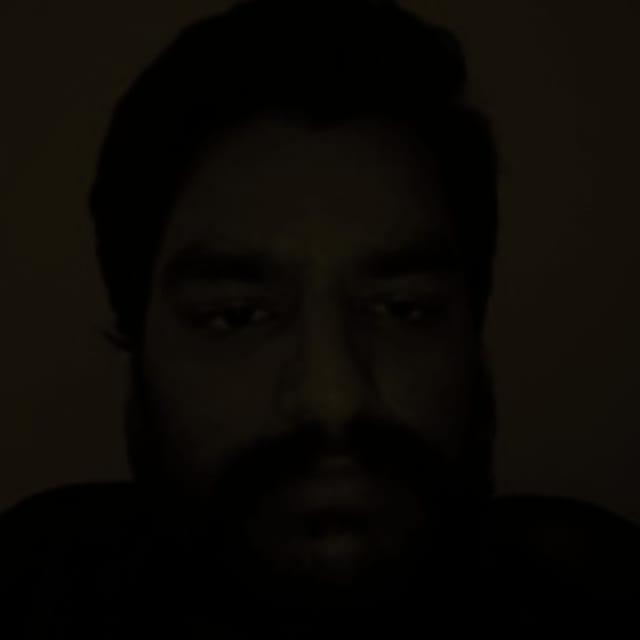Sad: (44, 55, 541, 631)
